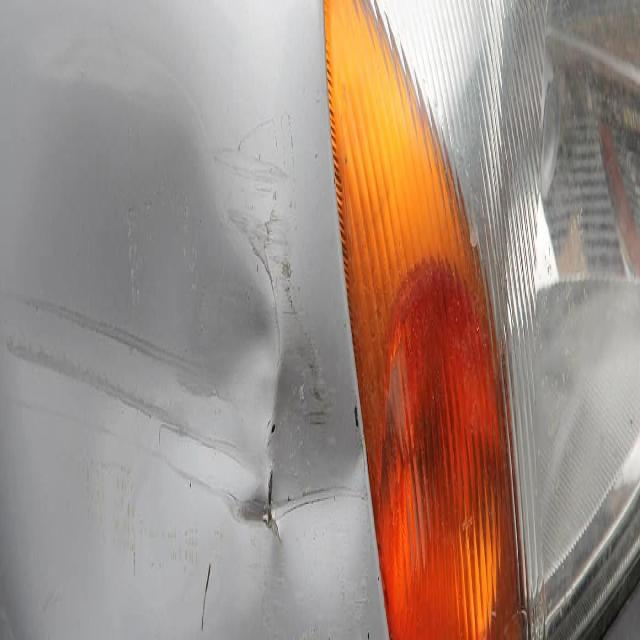dent: (6, 67, 388, 640)
